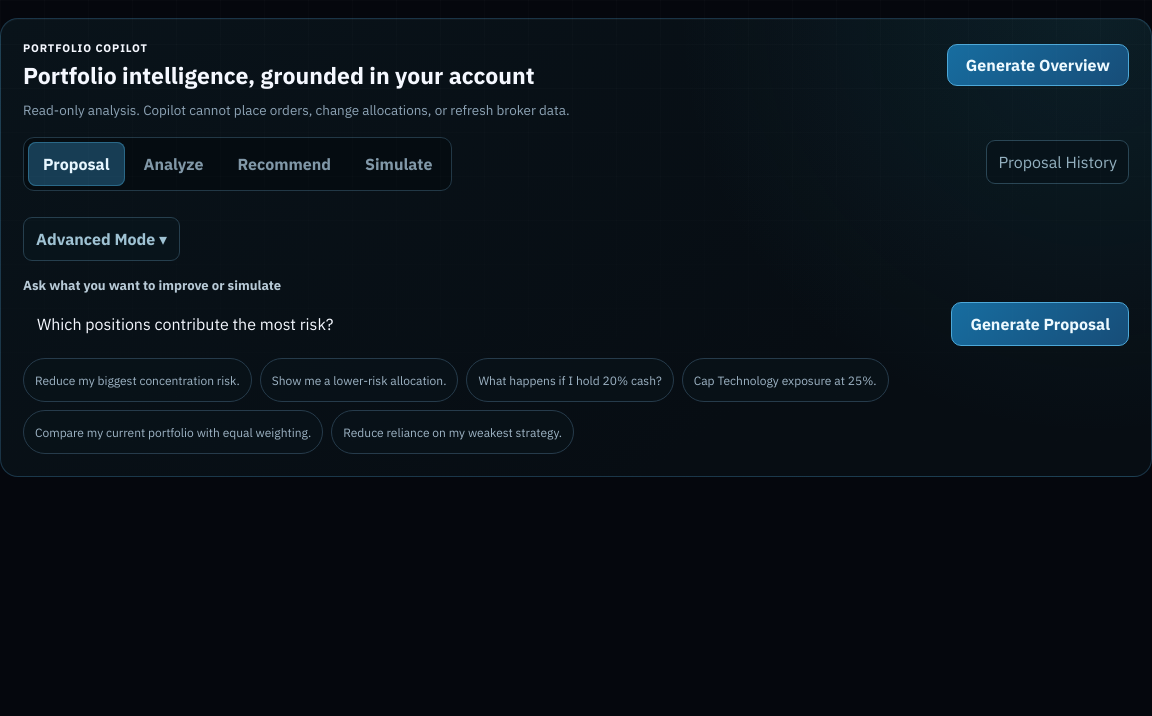
Test: PortfolioCopilotPanel › submits recommendation objectives and renders structured advisory options
The width and height of the screenshot is (1152, 716).
Click the button "Recommend". click: (284, 164)
box: [222,142,346,186]
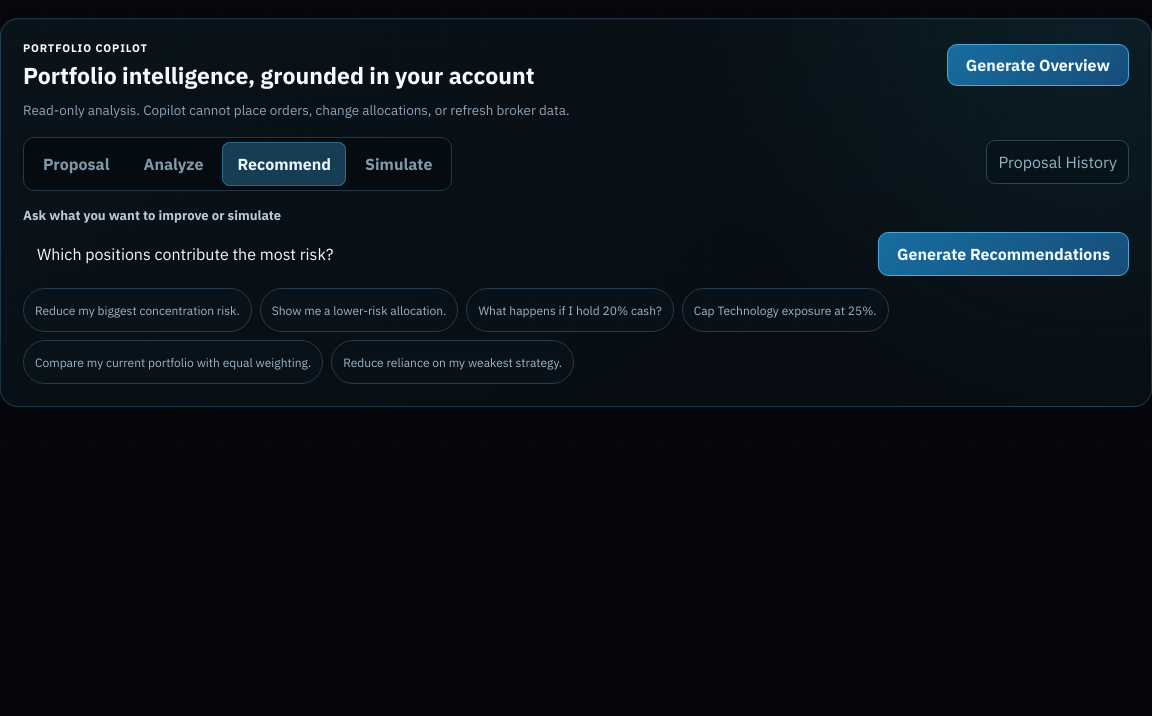
Type "Reduce concentration" into the field labelled "Ask what you want to improve or simulate". click: (445, 254)
box: [23,232,868,276]
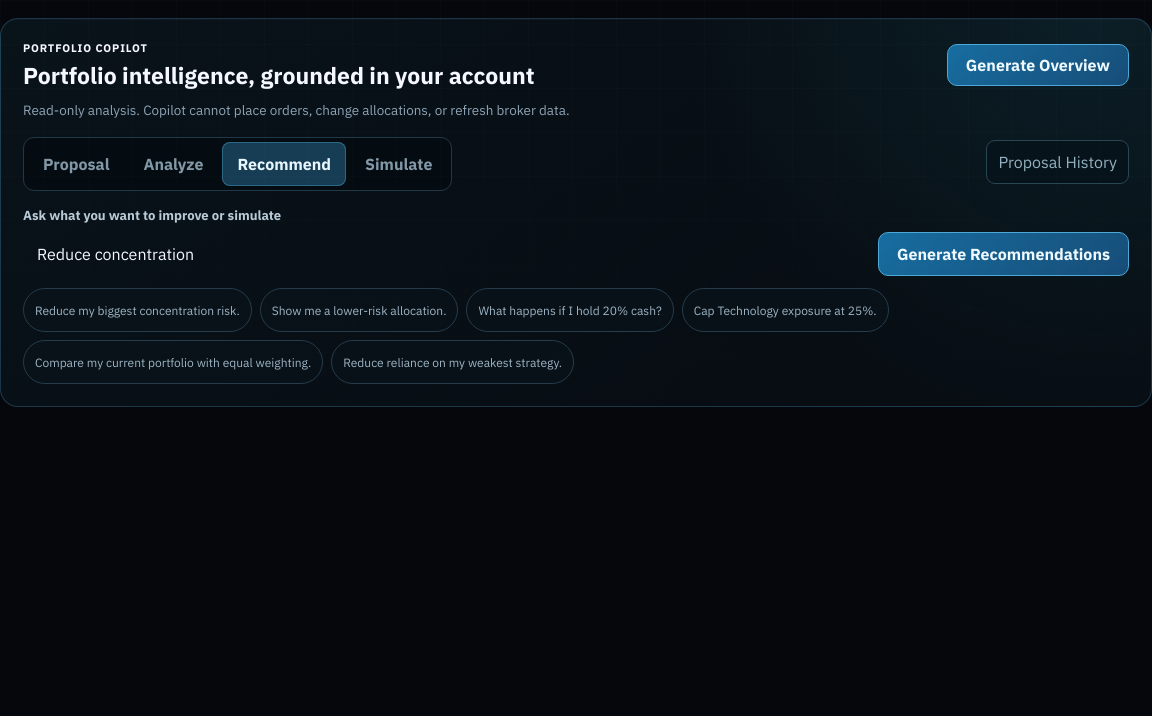
Click the button "Generate Recommendations". click: (1003, 254)
box: [878,232,1129,276]
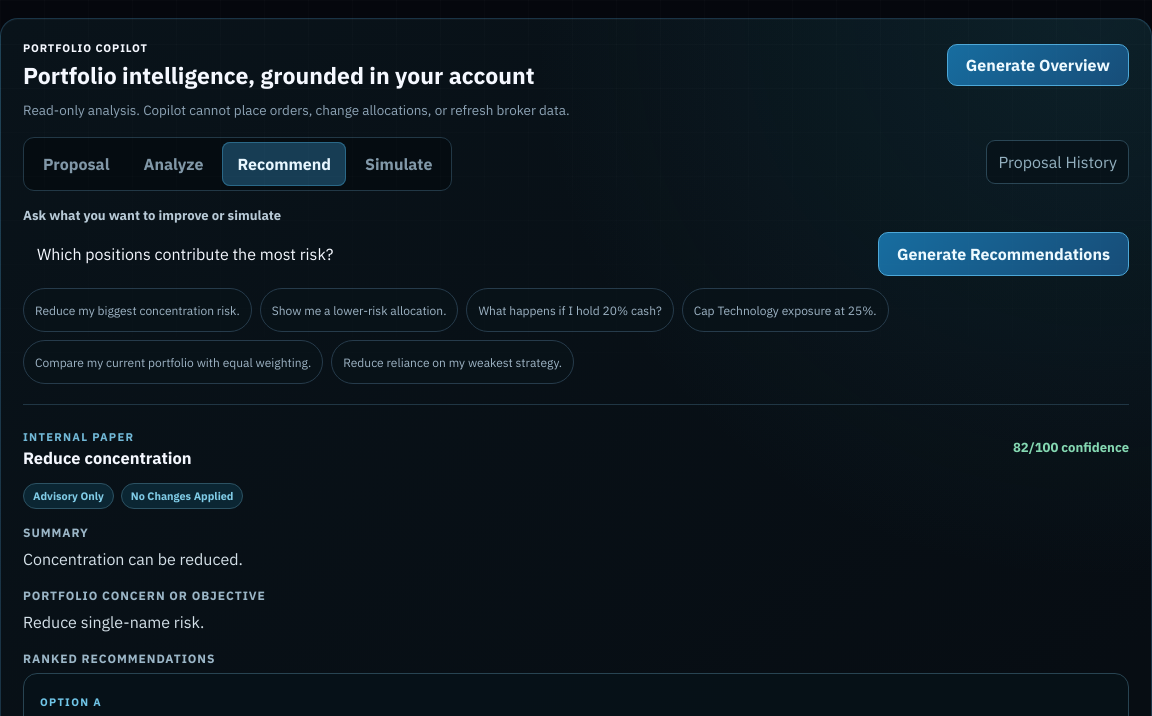
Expected: the text "Advisory Only" is shown, [23,483,114,509]
